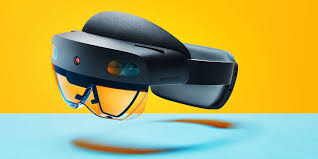hololens: (51, 8, 239, 123)
